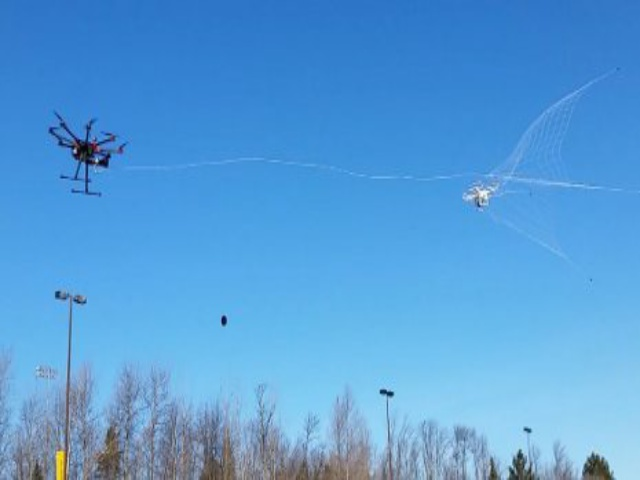drone: (43, 103, 133, 204), (454, 169, 504, 220)
